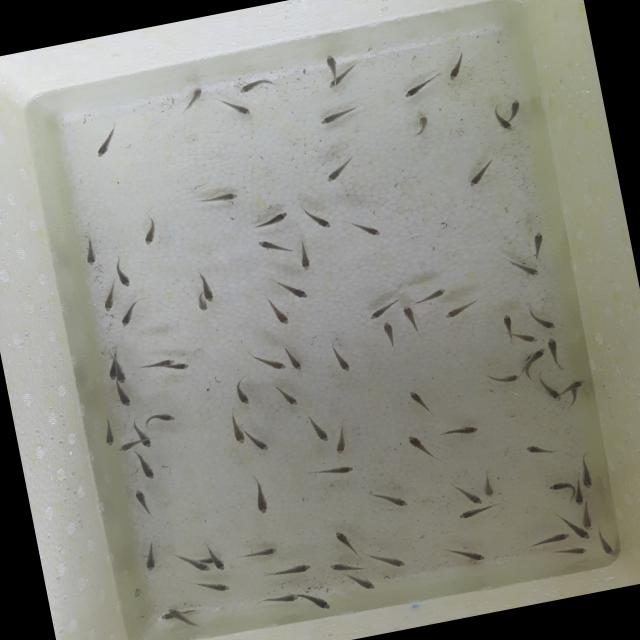fingerling: (313, 100, 370, 130), (88, 120, 126, 161), (319, 152, 363, 186), (260, 557, 316, 583), (401, 426, 437, 466), (365, 484, 412, 514), (191, 186, 246, 211), (444, 541, 490, 570), (298, 200, 335, 236), (399, 72, 446, 100), (247, 472, 275, 519), (302, 408, 334, 449), (462, 156, 500, 190), (116, 297, 153, 330), (256, 232, 296, 262), (306, 461, 358, 484), (249, 346, 287, 377), (78, 229, 108, 268), (442, 47, 474, 83), (452, 500, 502, 523), (249, 210, 296, 234), (525, 302, 560, 334), (407, 386, 438, 422), (330, 524, 360, 561), (442, 296, 484, 322), (192, 574, 234, 600), (451, 478, 485, 510), (237, 72, 282, 96), (370, 546, 410, 573), (327, 339, 355, 376), (278, 277, 313, 305), (350, 216, 386, 243), (240, 542, 284, 564), (545, 478, 577, 508), (136, 215, 164, 249), (300, 588, 334, 616), (327, 556, 368, 579), (274, 378, 302, 411), (528, 529, 572, 550), (438, 420, 484, 440), (522, 437, 558, 462), (139, 538, 164, 574), (134, 449, 160, 483), (576, 450, 598, 490), (179, 84, 208, 114), (96, 284, 125, 314), (408, 108, 436, 139), (378, 316, 402, 352), (536, 371, 562, 404), (345, 570, 378, 596), (224, 413, 248, 448), (110, 260, 136, 292), (280, 343, 306, 375), (132, 486, 156, 520), (398, 302, 422, 336), (330, 421, 352, 458), (258, 590, 298, 610), (414, 284, 450, 306), (365, 298, 399, 321), (484, 368, 522, 388), (478, 466, 501, 499), (230, 376, 253, 408), (226, 96, 254, 122), (296, 238, 316, 274), (266, 298, 290, 328), (142, 408, 178, 428), (554, 540, 590, 560), (516, 258, 544, 283), (248, 426, 272, 454), (510, 327, 540, 348), (595, 528, 616, 558), (546, 336, 564, 370), (208, 542, 227, 574), (505, 95, 525, 124), (141, 356, 177, 372), (529, 228, 549, 256), (491, 110, 513, 135), (200, 272, 218, 302), (114, 383, 134, 410), (100, 419, 118, 449), (322, 52, 341, 76), (578, 502, 594, 530), (571, 478, 586, 506), (138, 425, 155, 449), (117, 438, 141, 454), (324, 76, 348, 90), (193, 294, 209, 314), (564, 378, 586, 392), (500, 312, 516, 331), (530, 347, 548, 362), (193, 560, 212, 574), (576, 526, 592, 542), (173, 359, 192, 372), (114, 368, 128, 384), (167, 605, 184, 618), (157, 611, 174, 624), (107, 366, 118, 382)
